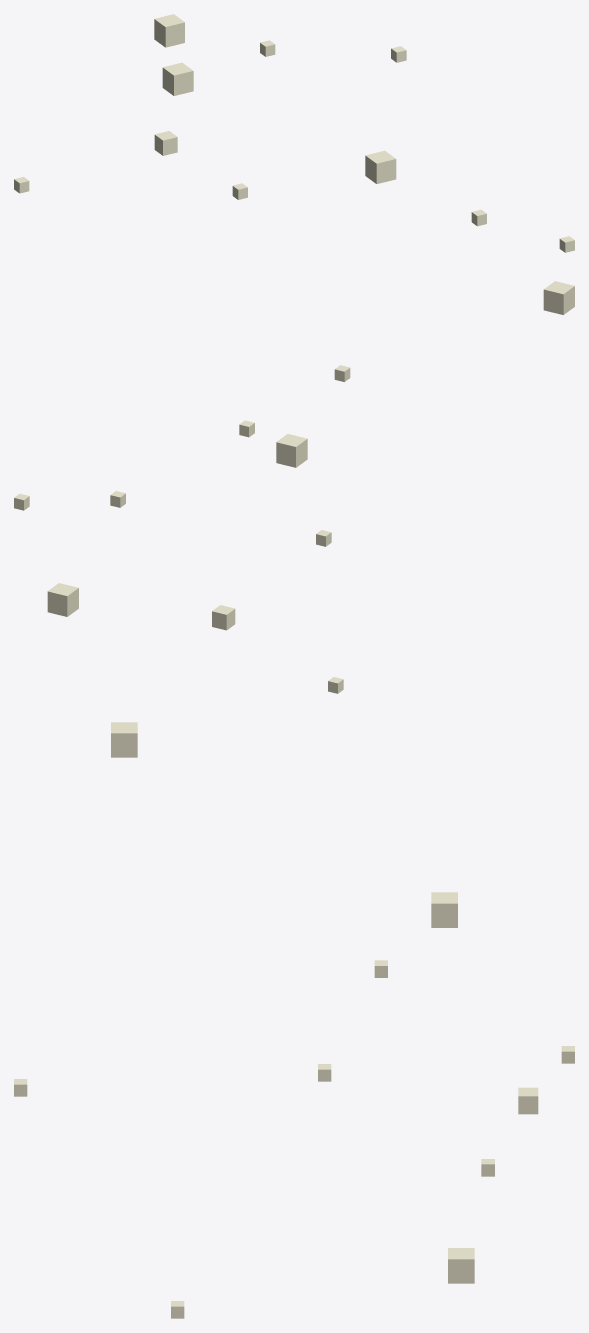
File: star_square_arrange_white_02.glb
3 renders of one model, top to bottom at view 1: azimuth 30°, elevation 25°; view 2: azimuth 150°, elevation 25°; view 3: azimuth 270°, elevation 25°, orthographic. The views are drawn at different scales.
Visible parts, largest first — view 1: block (×4); view 2: block (×3); view 3: block (×3).
Part boxes in pixels (box(x1,y1,x2,y2)): block (×4): box(154, 14, 396, 183); block (×3): box(47, 281, 574, 616); block (×3): box(111, 722, 474, 1283).
Size of the model in its own units: 4.35 by 2.9 by 4.2.
